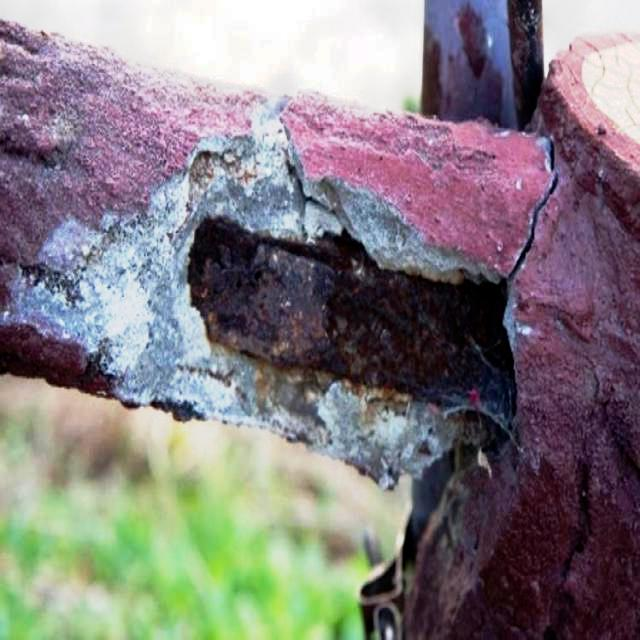Corrosion: (188, 221, 518, 430), (459, 3, 489, 76), (422, 20, 443, 116)
